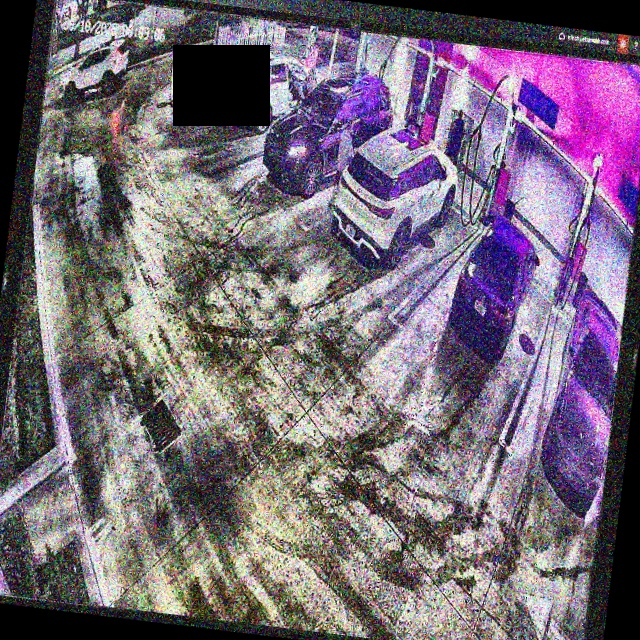Car: (328, 120, 466, 279), (259, 63, 398, 197), (445, 212, 547, 369)
